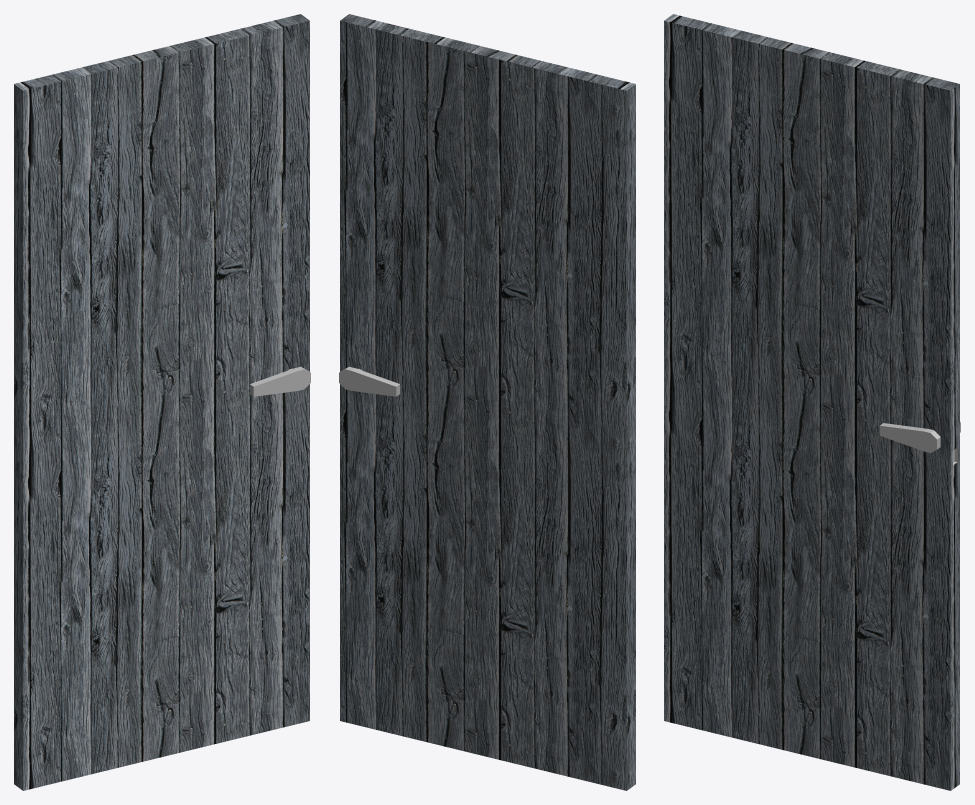
File: Door.fbx
The picture shows the model from 3 angles, left to right: view 1: azimuth 30°, elevation 25°; view 2: azimuth 150°, elevation 25°; view 3: azimuth 330°, elevation 25°; orthographic projection.
Visible parts, largest first — view 1: Door, Door lock; view 2: Door, Door lock; view 3: Door, Door lock.
Part boxes in pixels (bbox=[...]): Door: bbox=[14, 14, 309, 790]; Door lock: bbox=[250, 366, 310, 396]; Door: bbox=[340, 14, 635, 790]; Door lock: bbox=[339, 366, 399, 396]; Door: bbox=[664, 14, 959, 790]; Door lock: bbox=[879, 421, 960, 452].
Bounding box in the file's own units: 90 × 210 × 13.
2 materials, 1 textured.
